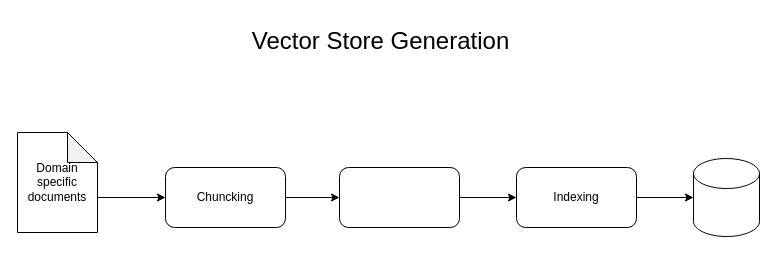
This 777x254 diagram has some shape labels left out. Here are the shapes that lost their labels. From the top down, the centre of each, then its label:
pixel 399 197: Embedding generation
pixel 726 197: Vector DB
